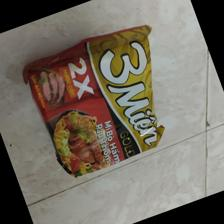3mien: (22, 24, 165, 180)
